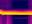Hotspot: (0, 10, 31, 15)
